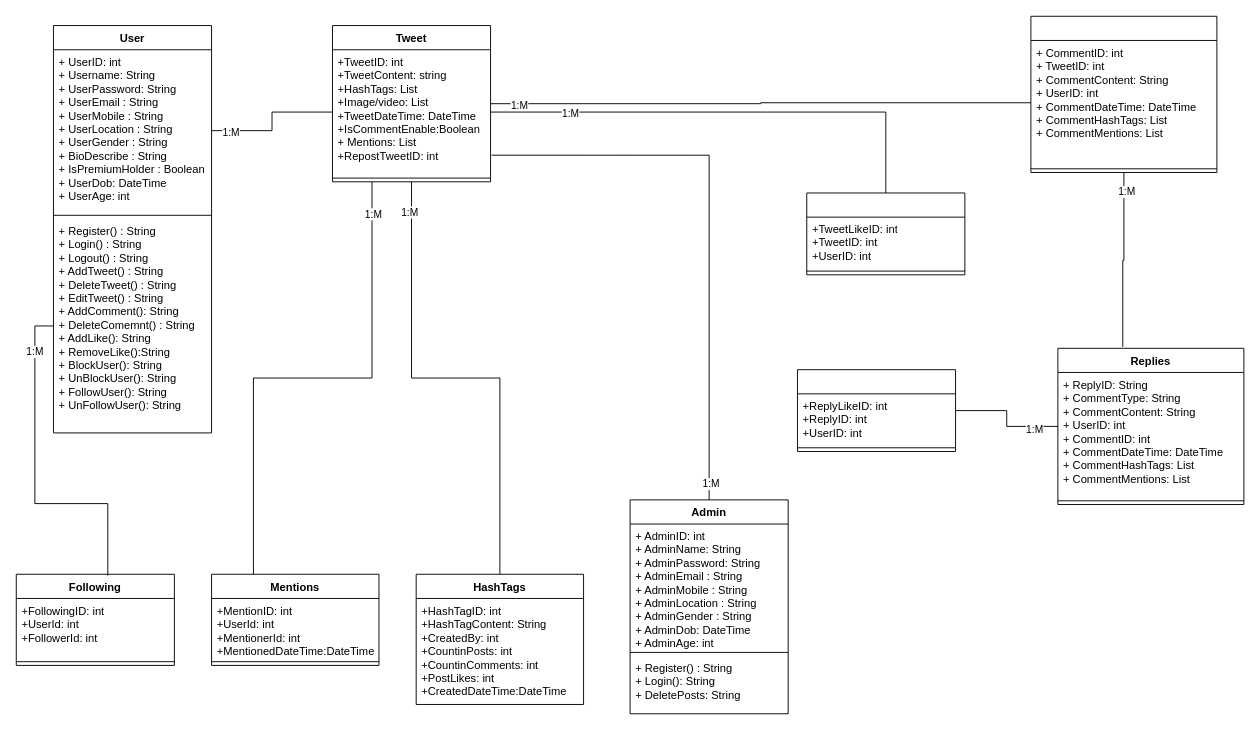
This 1260x733 diagram has some shape labels left out. The box of each missing label's shape, as (x1, y1, x2, y2) in pixels:
Comments: (1030, 15, 1217, 173)
ReplyLikes: (797, 369, 956, 452)
TweetLikes: (806, 192, 965, 275)
